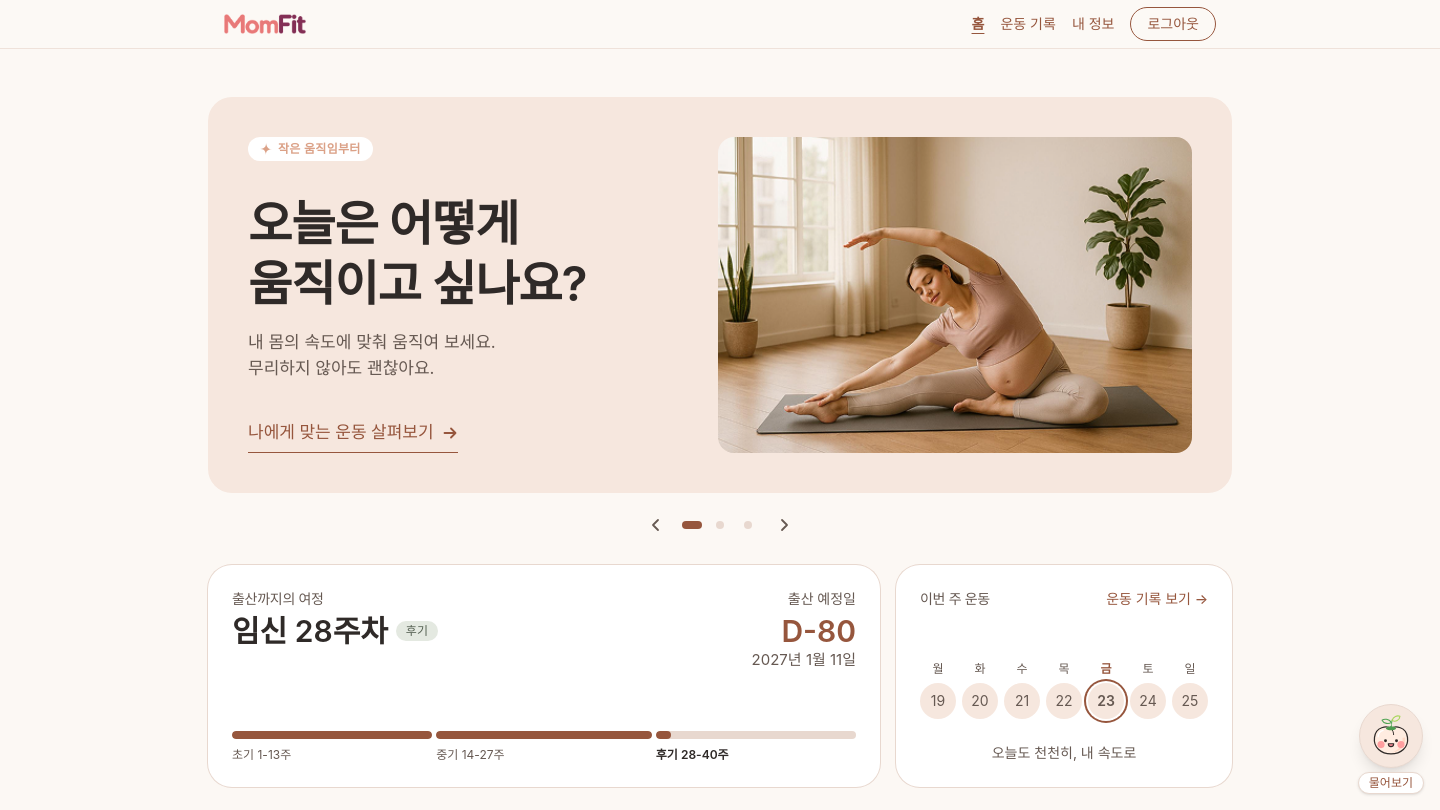
Test case: SiteHeader › 로그아웃 확인 모달 › 취소하면 로그인 상태를 유지하고 모달을 닫는다
Click the button "로그아웃" at [1173, 24], box x1=1130 y1=7 x2=1216 y2=41
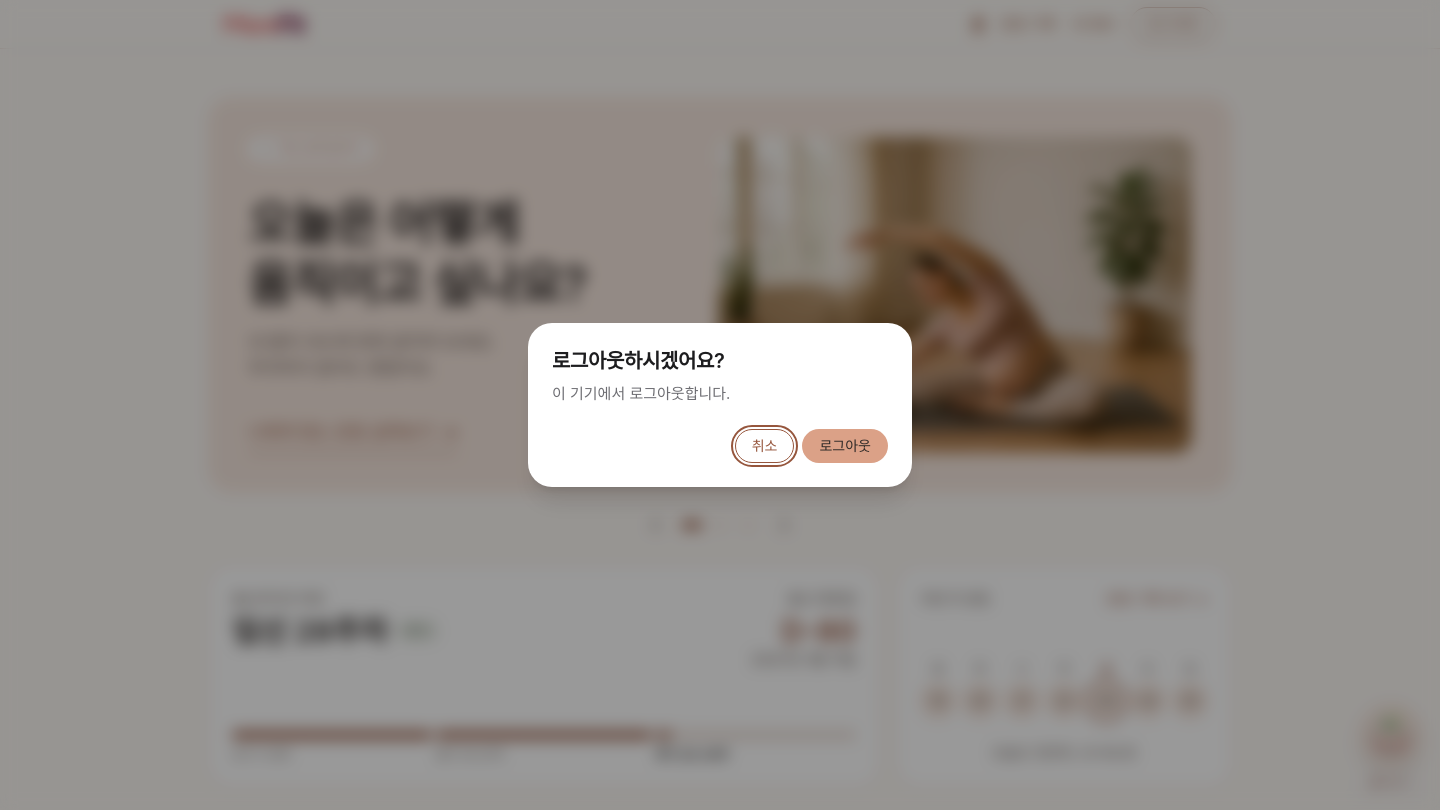
Click the button "취소" at [765, 446], box x1=735 y1=429 x2=794 y2=463
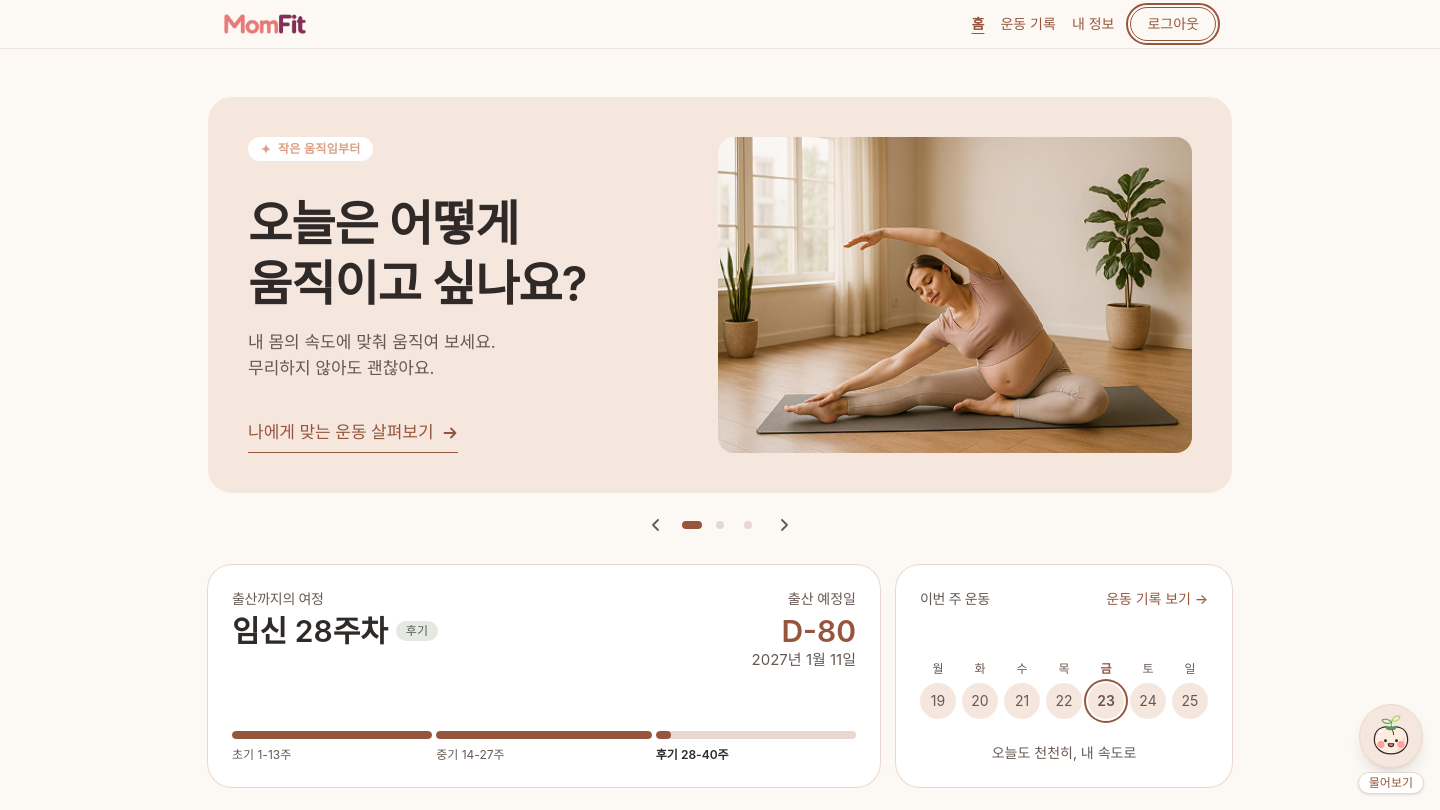
Check: the button "로그아웃" is shown, box x1=1130 y1=7 x2=1216 y2=41
Check: the dialog is gone
